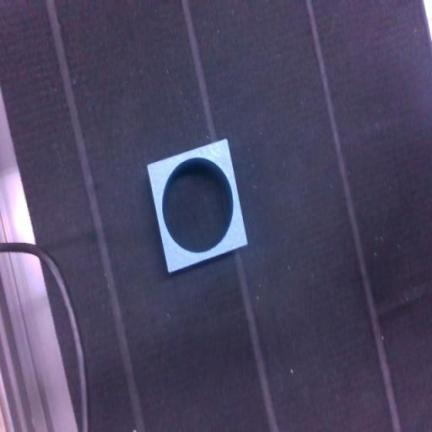hole: (148, 139, 247, 272), (148, 140, 247, 272)
